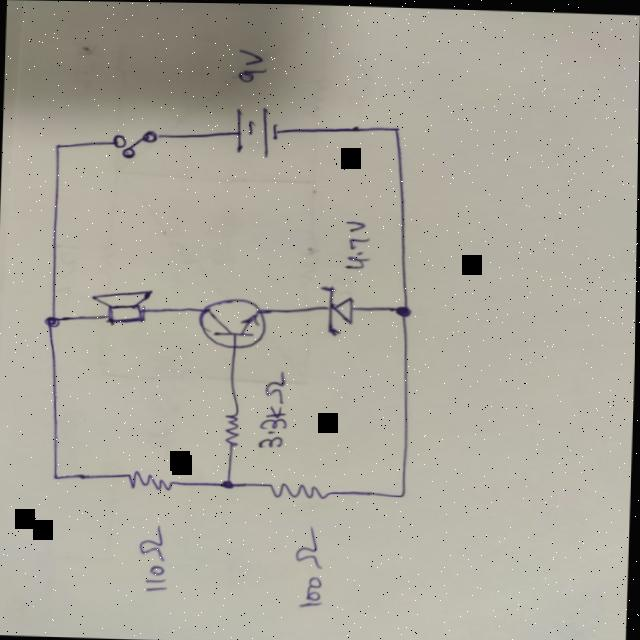diode: (320, 284, 355, 336)
junction: (215, 473, 237, 490), (390, 303, 411, 318), (42, 314, 61, 330), (51, 142, 65, 153), (388, 123, 403, 133), (394, 489, 408, 499), (50, 473, 63, 482)
resistor: (265, 481, 333, 500), (126, 470, 173, 493), (221, 409, 240, 445)
source: (230, 108, 281, 156)
switch: (109, 128, 159, 160)
text: (293, 524, 325, 607), (256, 378, 288, 449), (137, 522, 166, 593), (342, 220, 370, 269), (236, 48, 265, 82)
transistor: (195, 297, 266, 351)
